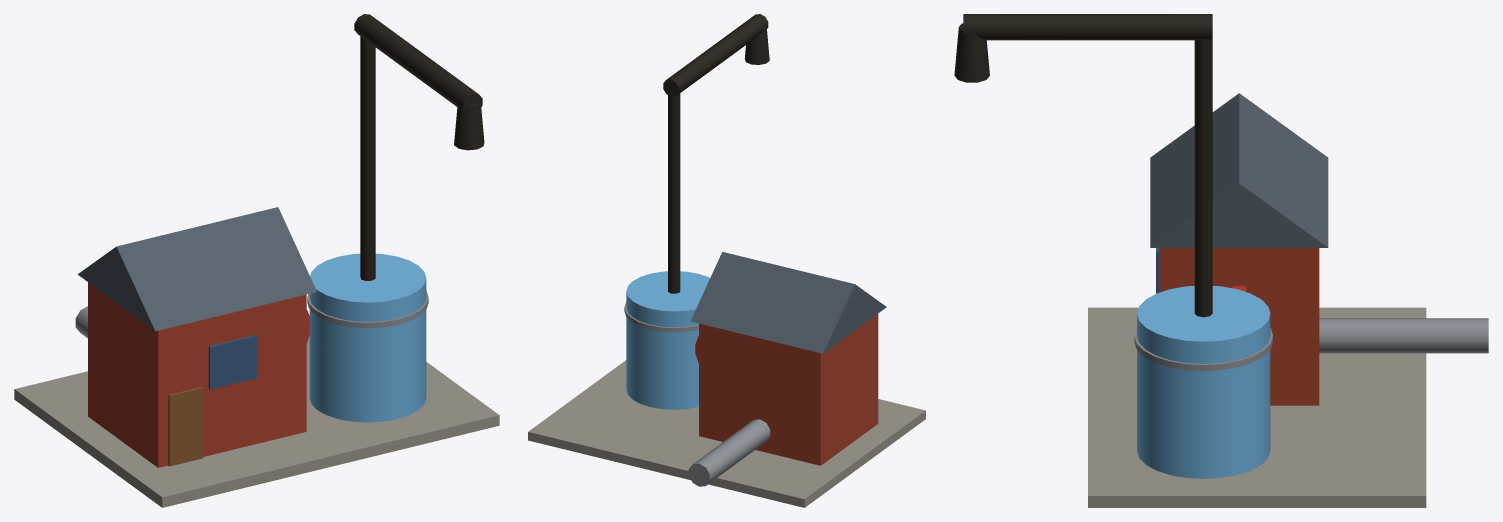
The model's file is pump-house.glb.
The picture shows the model from 3 angles, left to right: view 1: azimuth 30°, elevation 25°; view 2: azimuth 150°, elevation 25°; view 3: azimuth 270°, elevation 25°; orthographic projection. The views are drawn at different scales.
Visible parts, largest first — view 1: brick, stone, slate, sky, black, darkWood, glass, steel; view 2: brick, stone, slate, sky, black, steel; view 3: stone, sky, slate, black, brick, steel.
Part boxes in pixels (left/top/right/bottom): brick: left=88, top=282, right=306, bottom=467; stone: left=14, top=336, right=499, bottom=507; slate: left=78, top=207, right=316, bottom=331; sky: left=309, top=253, right=426, bottom=422; black: left=354, top=14, right=484, bottom=280; darkWood: left=168, top=387, right=203, bottom=466; glass: left=208, top=335, right=257, bottom=389; steel: left=75, top=291, right=428, bottom=338; brick: left=699, top=314, right=878, bottom=465; stone: left=528, top=360, right=925, bottom=507; slate: left=690, top=252, right=886, bottom=353; sky: left=626, top=271, right=709, bottom=409; black: left=663, top=14, right=769, bottom=293; steel: left=624, top=302, right=770, bottom=486; stone: left=1088, top=307, right=1426, bottom=507; sky: left=1137, top=286, right=1270, bottom=478; slate: left=1150, top=93, right=1328, bottom=247; black: left=954, top=14, right=1212, bottom=317; brick: left=1159, top=248, right=1319, bottom=405; steel: left=1134, top=318, right=1488, bottom=370.
Size of the model in its own units: 100 by 111 by 120.
